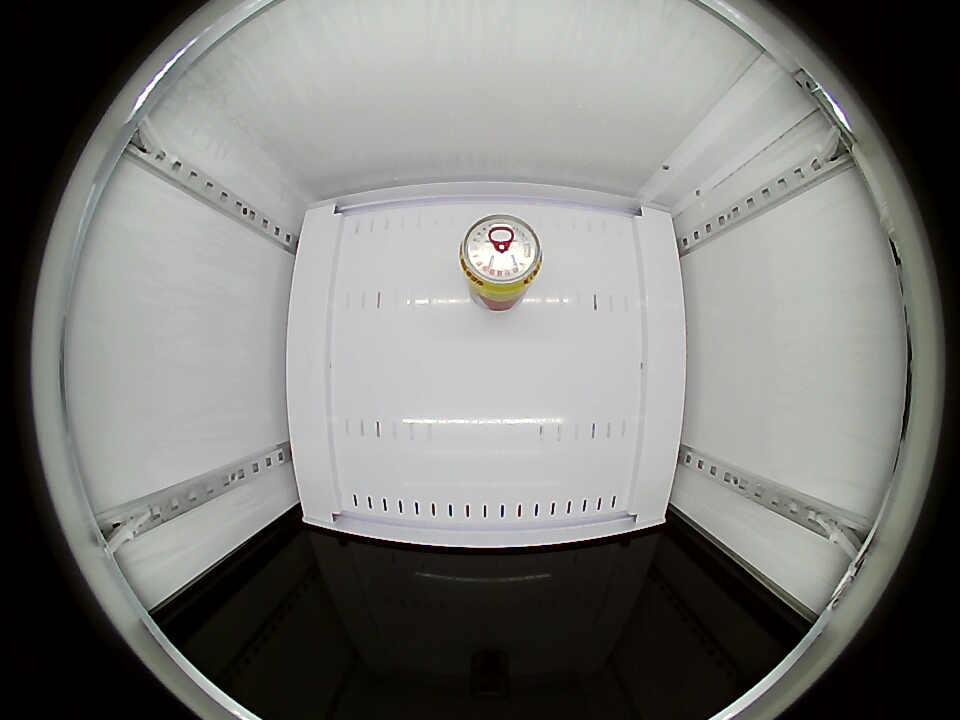dongpeng: (459, 214, 544, 300)
